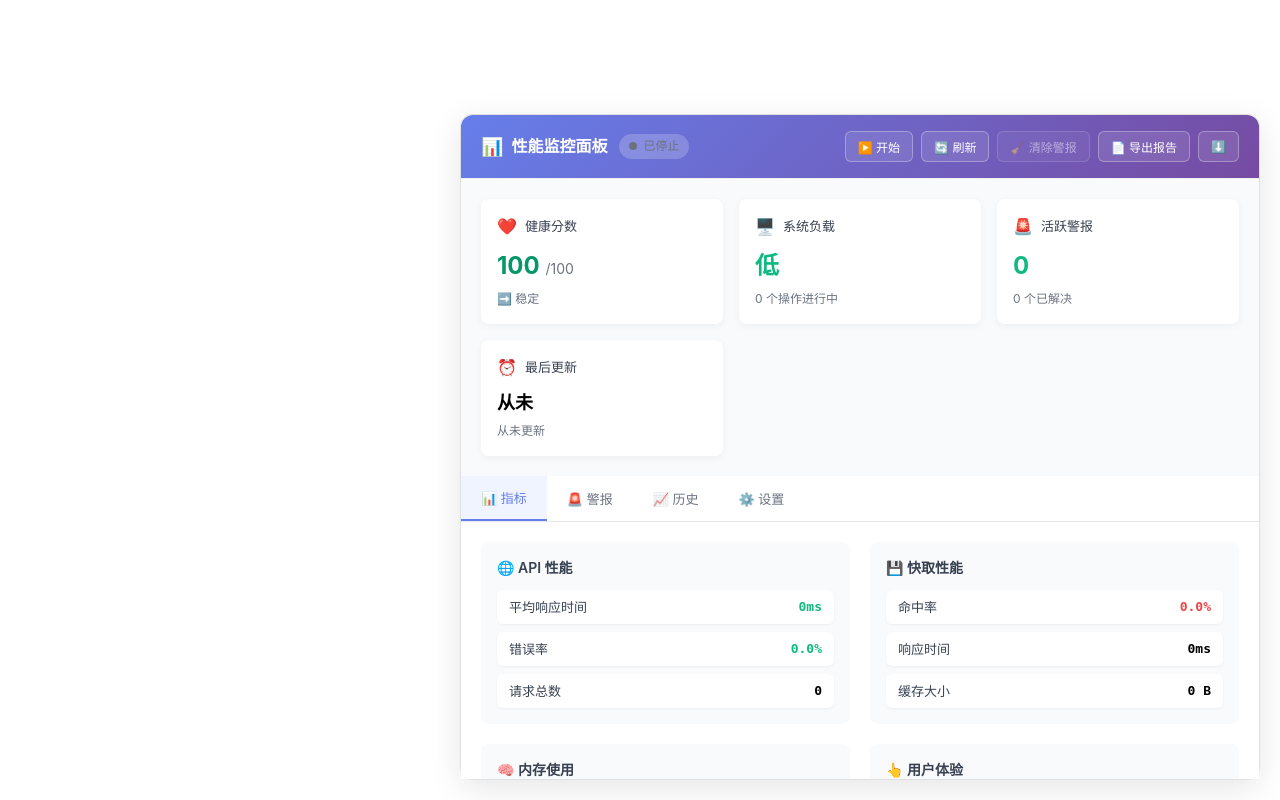
Test: DevMetrics › should show history panel with charts
Click the button with class "tab-btn" showing "📈 历史": click(676, 499) [633,476,718,521]
(page scrolled)
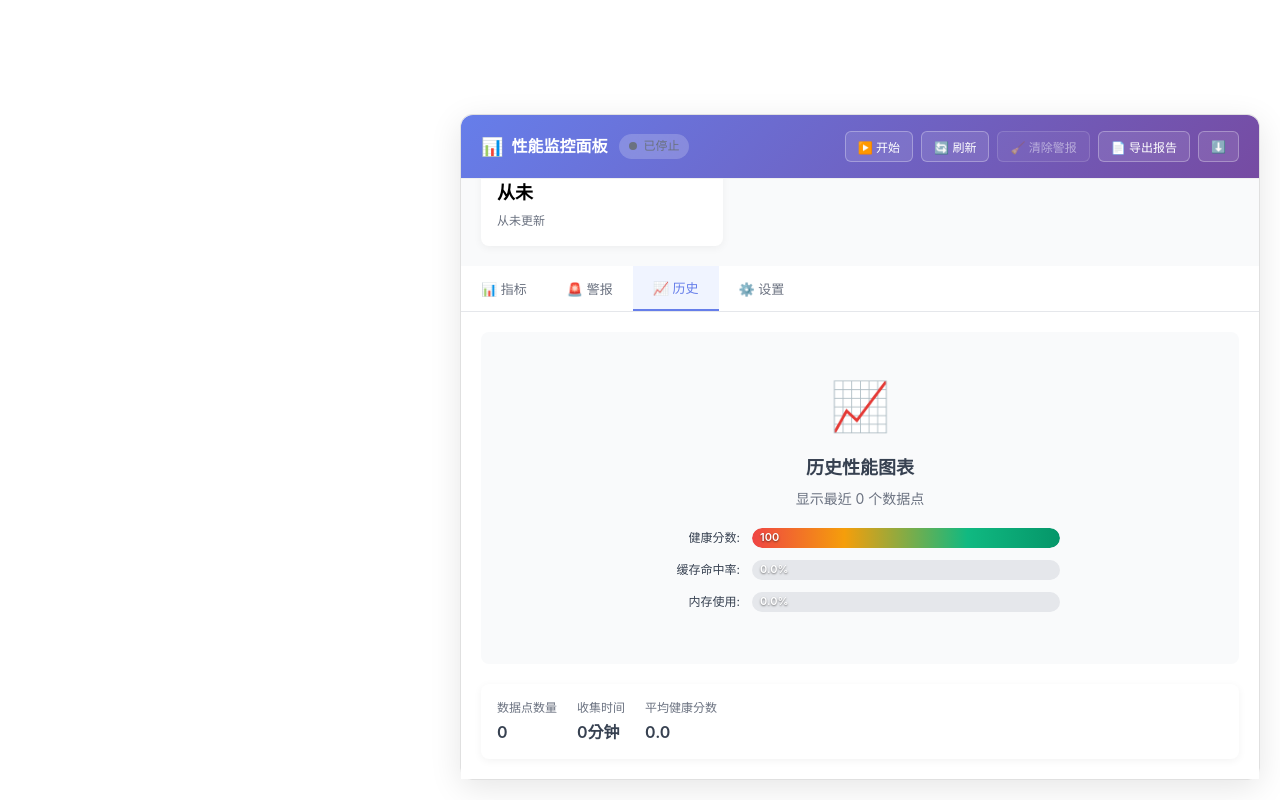
expect the element with class "history-panel" is shown: met, box [461,312,1259,779]
expect the element with class "chart-container" is shown: met, box [481,332,1239,664]
expect the element showing "健康分数: 100 缓存命中率: 0.0% 内存使用: 0.0%" is shown: met, box [660,528,1060,612]
